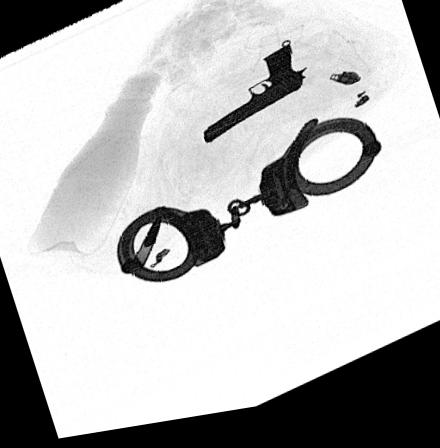Bullet: (131, 217, 165, 273)
Gun: (202, 53, 307, 151)
HandCuffs: (112, 124, 382, 289)
